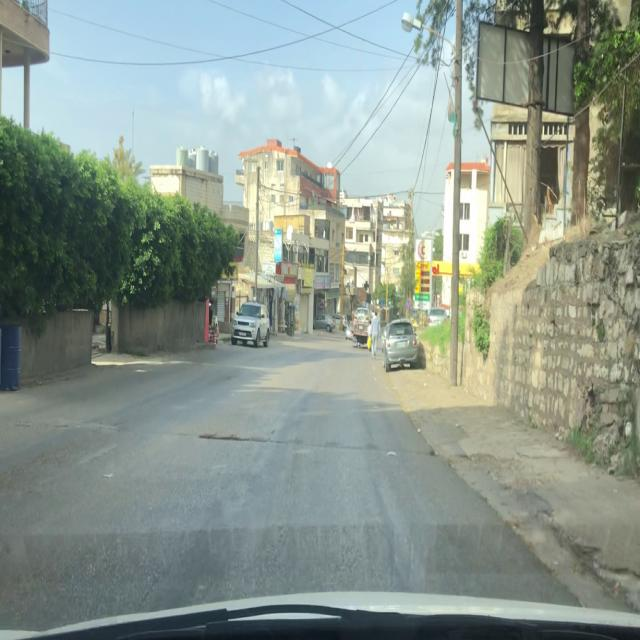Pothole: (197, 434, 254, 443)
